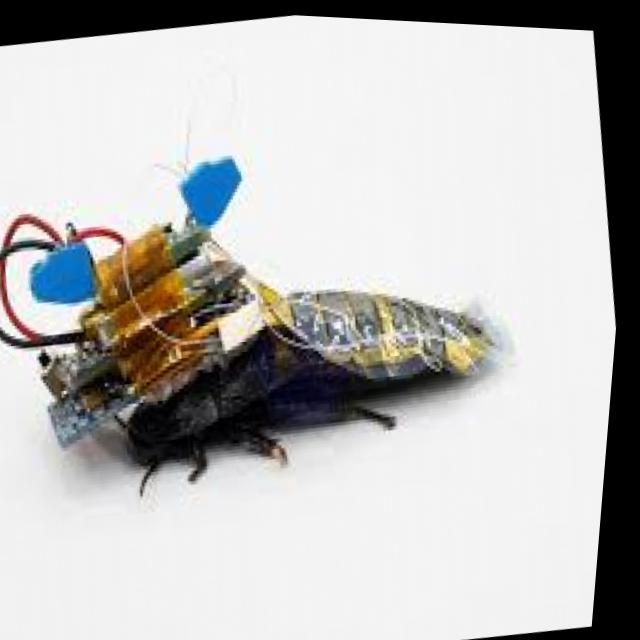Cockroach: (84, 223, 543, 536)
